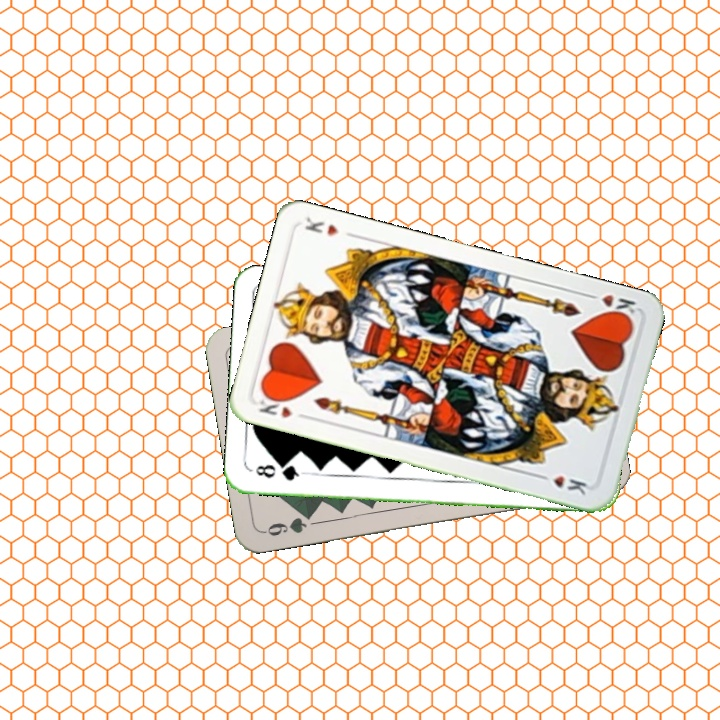G8: (252, 460, 308, 483)
G9: (259, 508, 317, 539)
HK: (582, 289, 639, 323), (254, 390, 312, 423)
